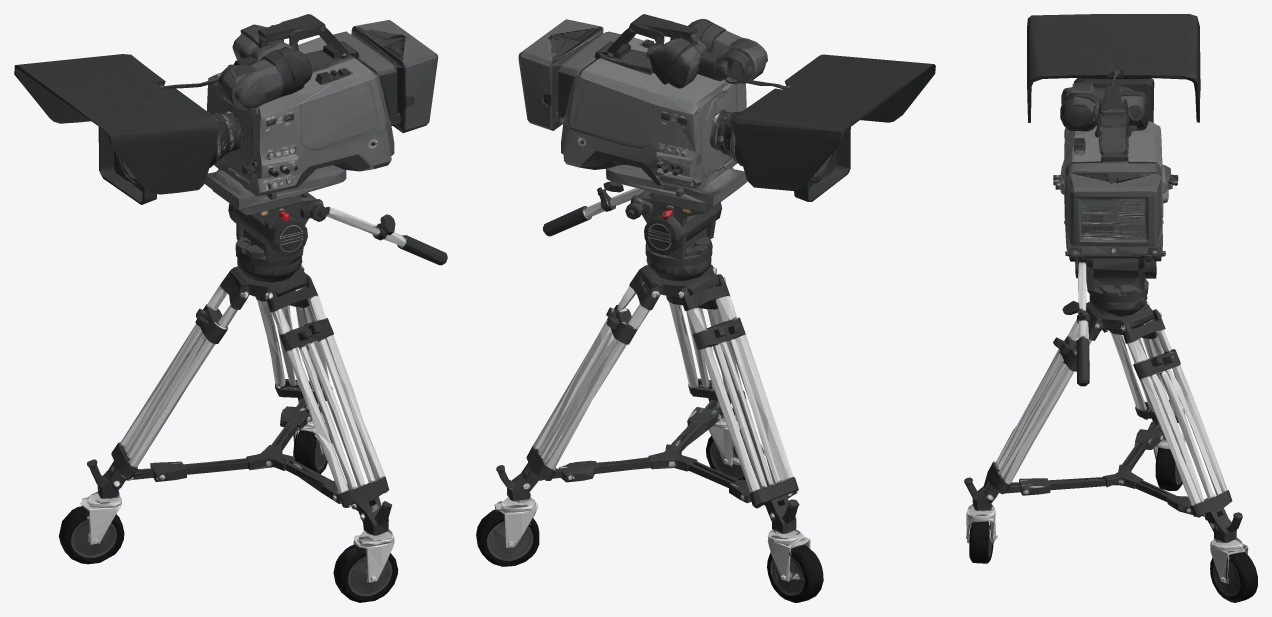
File: studio_camera_tripod.glb
The picture shows the model from 3 angles, left to right: view 1: azimuth 30°, elevation 25°; view 2: azimuth 150°, elevation 25°; view 3: azimuth 270°, elevation 25°; orthographic projection. The views are drawn at different scales.
Parts seen in each view (by area): view 1: Mesh_0; view 2: Mesh_0; view 3: Mesh_0.
Part boxes in pixels (bbox=[...]): Mesh_0: bbox=[14, 14, 447, 602]; Mesh_0: bbox=[476, 14, 935, 602]; Mesh_0: bbox=[964, 14, 1257, 602].
Bounding box in the file's own units: 1.26 × 1.7 × 0.981.
1 material, 1 textured.
